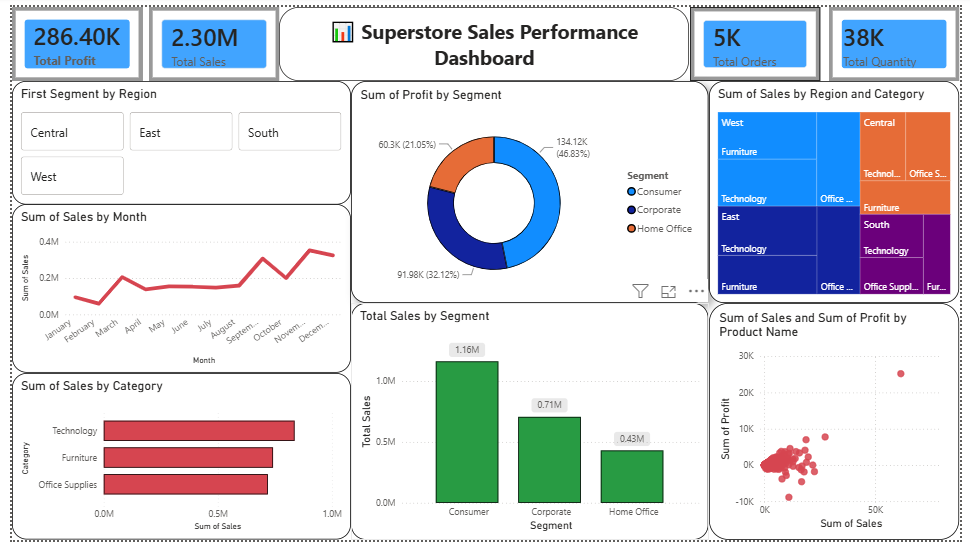

What the dashboard file says about the page in this screenshot:
{"tool":"powerbi","page":{"name":"Page 1","canvas":[1280,720],"ordinal":0},"visuals":[{"type":"cardVisual","fields":{"Data":["Orders.Total Profit"]},"box":[0,0,177,100.3],"z":0},{"type":"cardVisual","fields":{"Data":["Orders.Total Sales"]},"box":[190,0,176,100.3],"z":1000},{"type":"cardVisual","fields":{"Data":["Orders.Total Orders"]},"box":[914.3,0,176,100],"z":2000},{"type":"cardVisual","fields":{"Data":["Orders.Total Quantity"]},"box":[1104.5,0,176,100],"z":3000},{"type":"lineChart","fields":{"Category":["Orders.Order Date.Variation.Date Hierarchy.Month"],"Y":["Sum(Orders.Sales)"]},"box":[0,266.7,458.3,228.3],"z":4000},{"type":"clusteredBarChart","fields":{"Category":["Orders.Category"],"Y":["Sum(Orders.Sales)"]},"box":[0,494,458.3,225],"z":5000},{"type":"donutChart","fields":{"Category":["Orders.Segment"],"Y":["Sum(Orders.Profit)"]},"box":[458.6,100.3,483.7,309.7],"z":6000},{"type":"columnChart","fields":{"Y":["Orders.Total Sales"],"Category":["Orders.Segment"]},"box":[458.6,410,483.7,309.7],"z":7000},{"type":"treemap","fields":{"Group":["Orders.Region"],"Details":["Orders.Category"],"Values":["Sum(Orders.Sales)"]},"box":[942.3,100.3,337.7,309.7],"z":8000},{"type":"scatterChart","fields":{"X":["Sum(Orders.Sales)"],"Y":["Sum(Orders.Profit)"],"Category":["Orders.Product Name"]},"box":[942.3,410,337.7,309.7],"z":9000},{"type":"advancedSlicerVisual","fields":{"Values":["Orders.Region"],"Label":["Min(Orders.Order Date)"]},"box":[0,100.3,458.3,166.7],"z":10000},{"type":"textbox","box":[377.5,0,526.5,90],"z":11000}]}

Visuals, with their boxes in screenshot pixels (x1, y1, x2, y2), scaled from the page's 1280x720 canvas onto the 970x550 screenshot:
cardVisual - Orders.Total Profit: (left=0, top=0, right=134, bottom=77)
cardVisual - Orders.Total Sales: (left=144, top=0, right=277, bottom=77)
cardVisual - Orders.Total Orders: (left=693, top=0, right=826, bottom=76)
cardVisual - Orders.Total Quantity: (left=837, top=0, right=969, bottom=76)
lineChart - Orders.Order Date.Variation.Date Hierarchy.Month x Sum(Orders.Sales): (left=0, top=204, right=347, bottom=378)
clusteredBarChart - Orders.Category x Sum(Orders.Sales): (left=0, top=377, right=347, bottom=549)
donutChart - Orders.Segment x Sum(Orders.Profit): (left=348, top=77, right=714, bottom=313)
columnChart - Orders.Total Sales x Orders.Segment: (left=348, top=313, right=714, bottom=549)
treemap - Orders.Region x Orders.Category: (left=714, top=77, right=969, bottom=313)
scatterChart - Sum(Orders.Sales) x Sum(Orders.Profit): (left=714, top=313, right=969, bottom=549)
advancedSlicerVisual - Orders.Region x Min(Orders.Order Date): (left=0, top=77, right=347, bottom=204)
textbox: (left=286, top=0, right=685, bottom=69)
